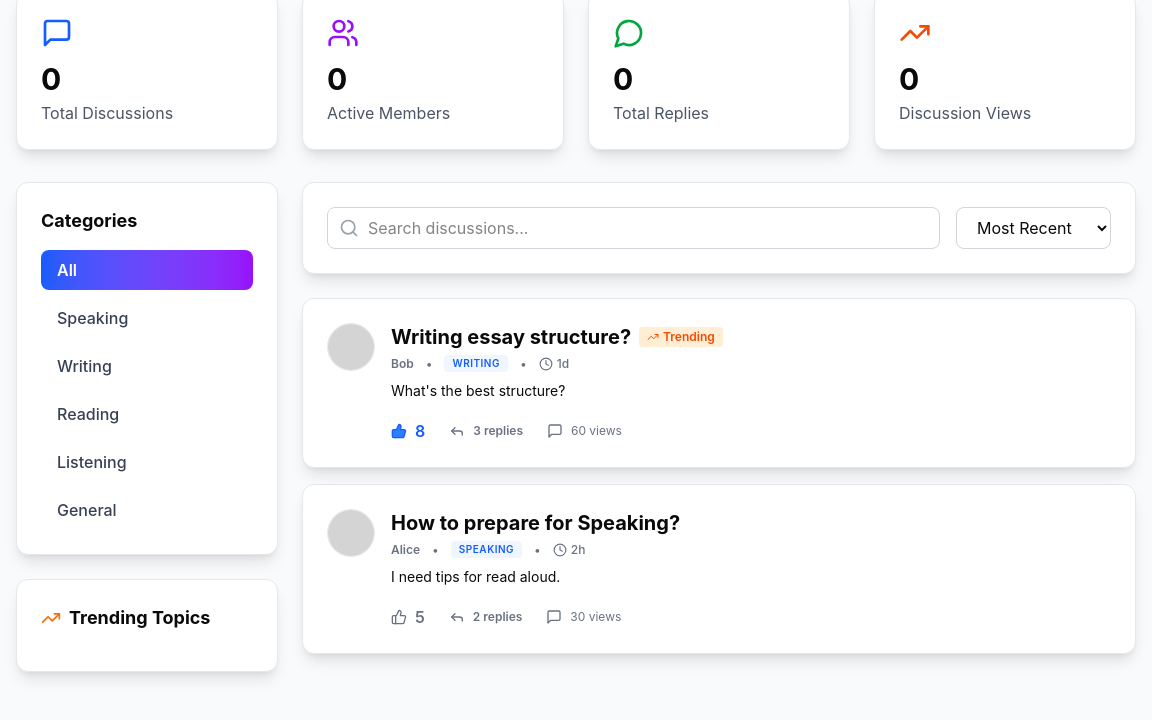
Test: ForumPage › likes a post successfully
The width and height of the screenshot is (1152, 720).
(page scrolled)
Check: the heading "How to prepare for Speaking?" is shown, box [391,509,680,537]
Click the button "5": coordinates (408, 617) [391,605,425,629]
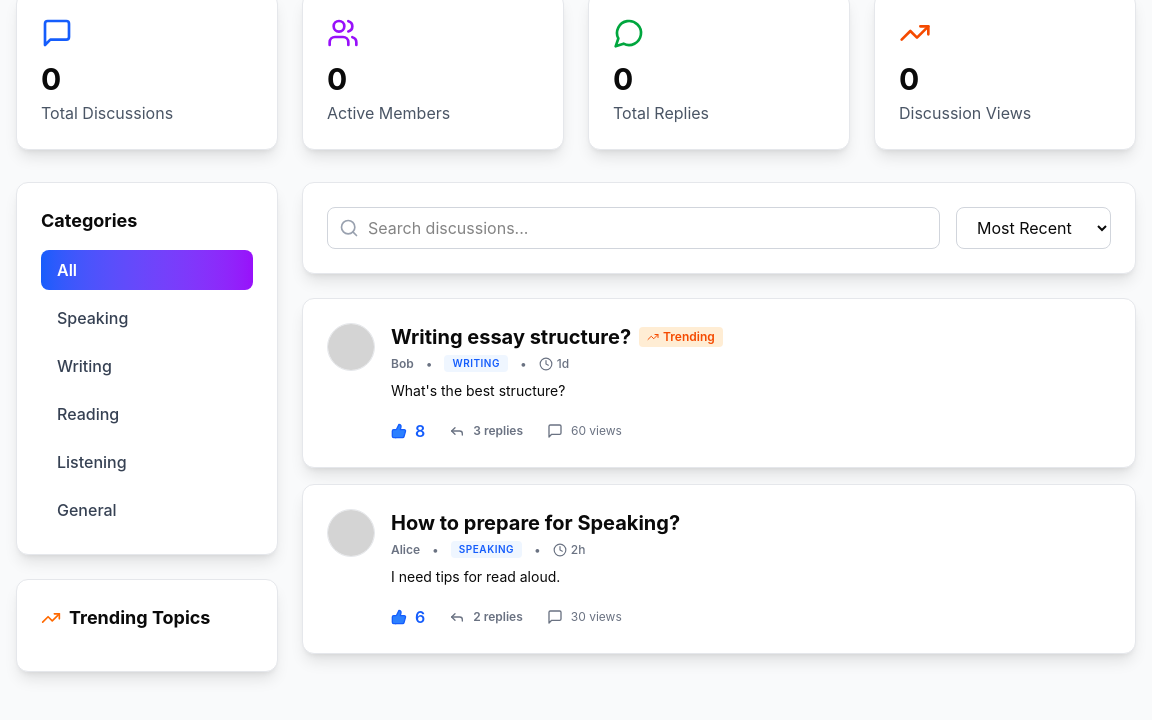
Check: the text "6" is shown, box [415,605,425,629]
